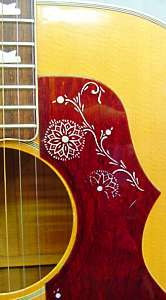guitar: (1, 1, 166, 297)
